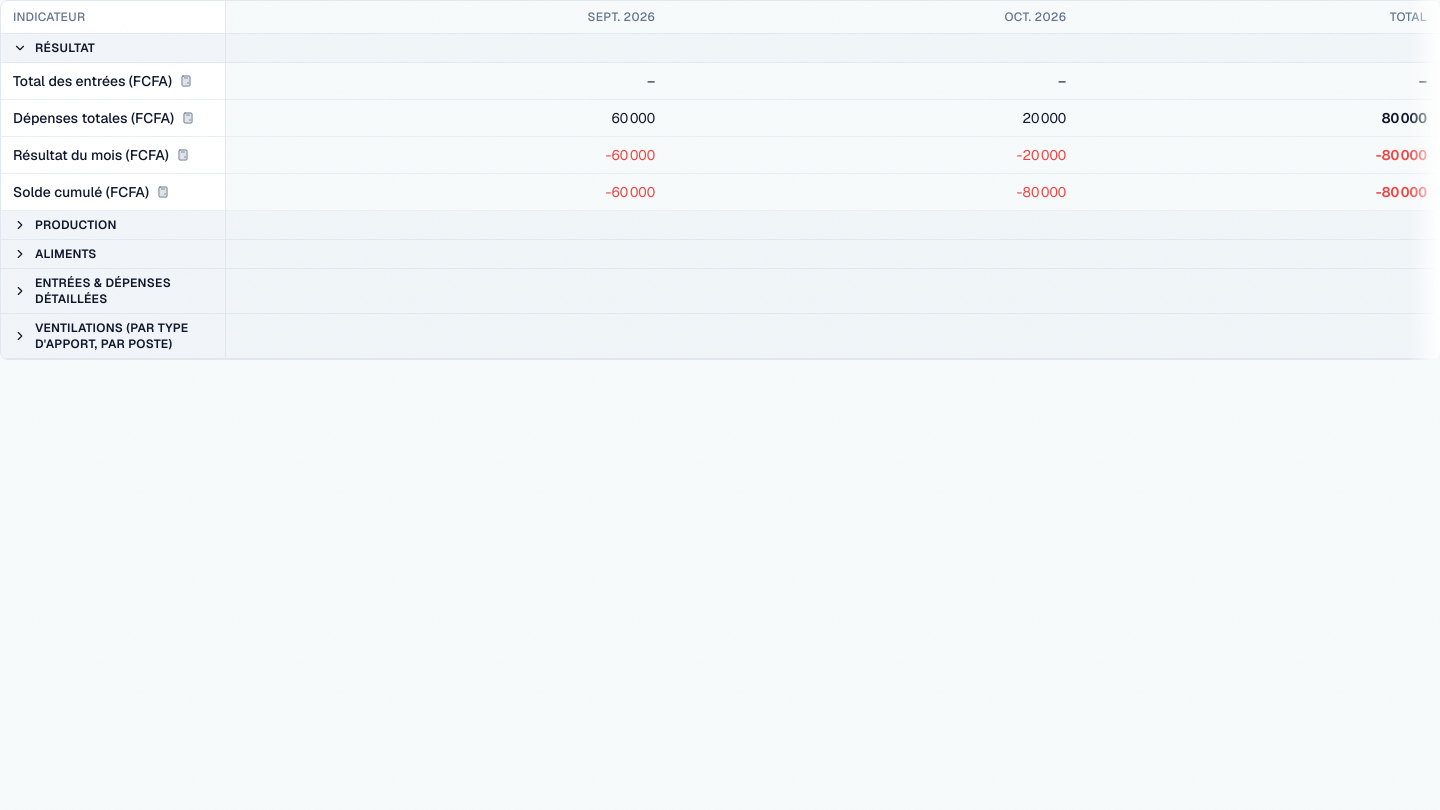
PrevisionsMensuellesTab — sections repliables (story PR2q.3) › ouvrir la section Aliments révèle le détail par granulométrie (dynamique, pas codé en dur)
Expected: the table is shown, [1,1,1439,359]
Step 1. Click the button "Aliments" → (113, 254), box [13,246,212,262]
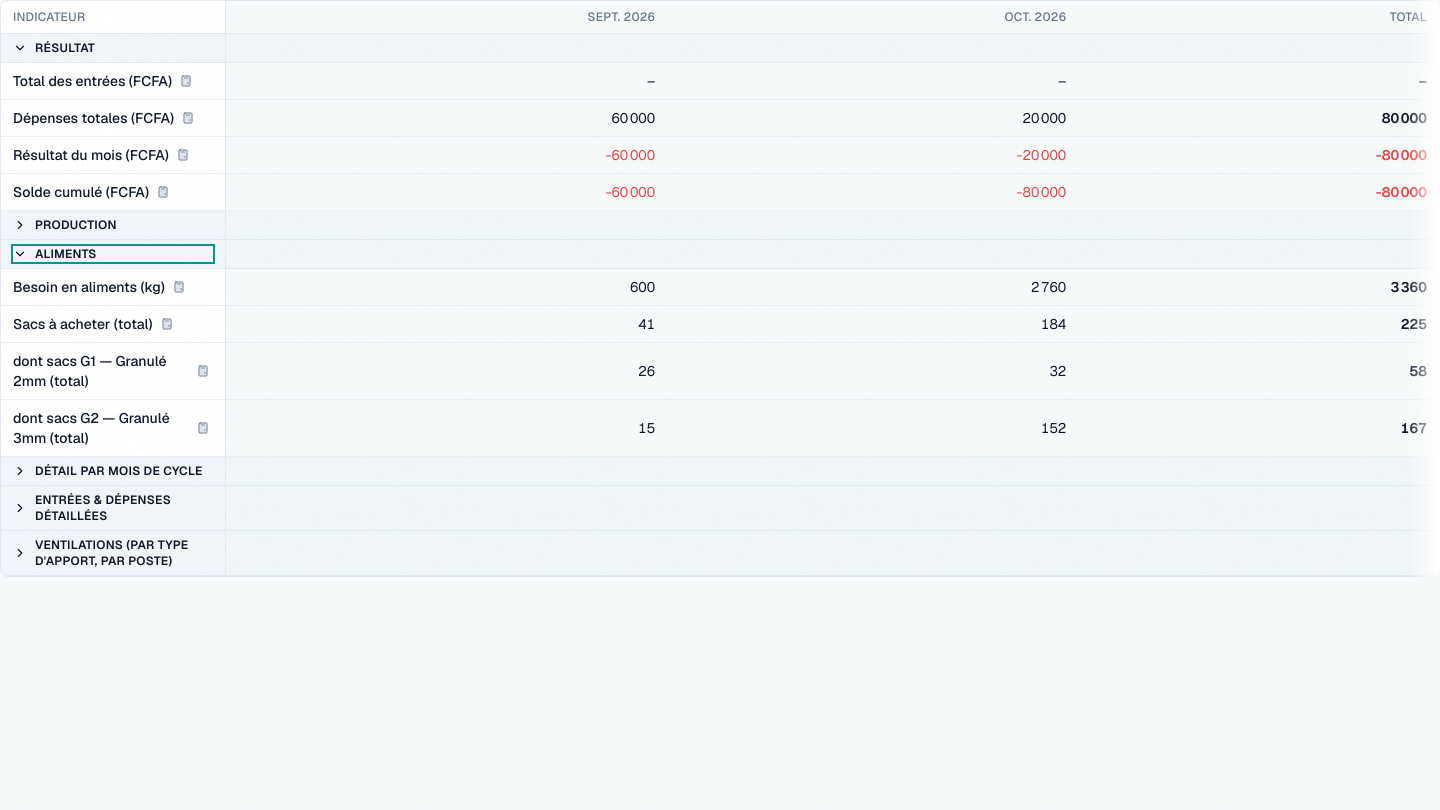
Result: the text "Besoin en aliments (kg)" is shown at [13,277,165,297]
Result: the text "Sacs à acheter (total)" is shown at [13,314,152,334]
Result: the text "dont sacs G1 — Granulé 2mm (total)" is shown at [13,351,188,391]
